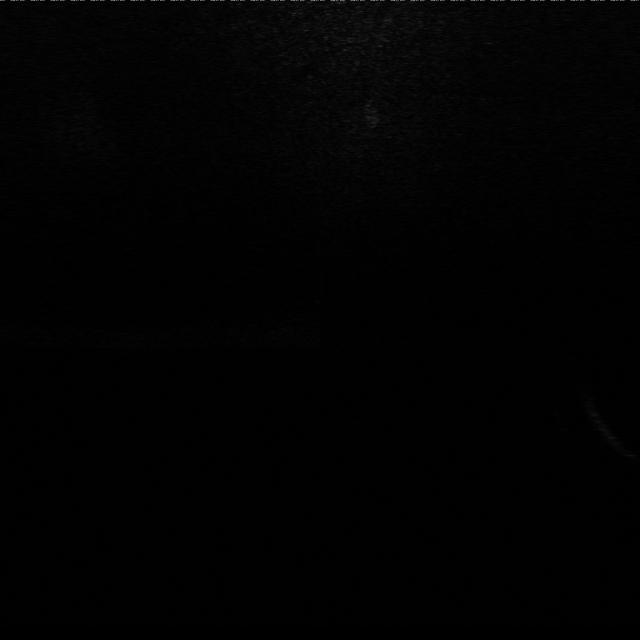circle cage: (357, 99, 389, 132)
